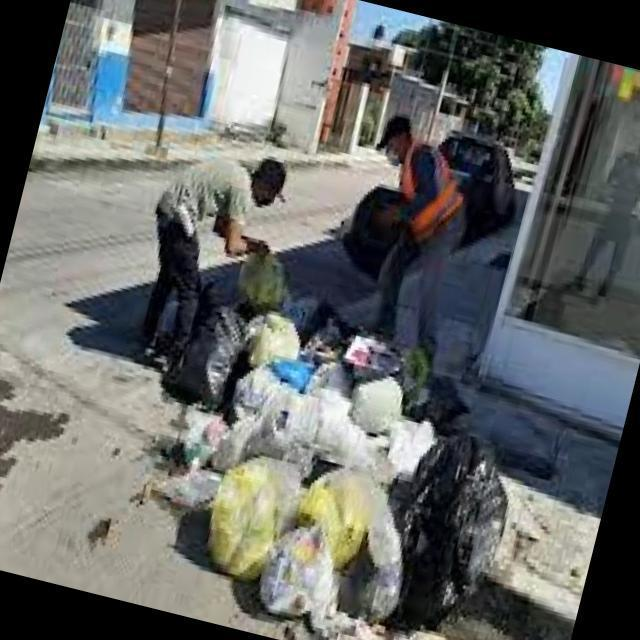garbage: (115, 253, 550, 640)
